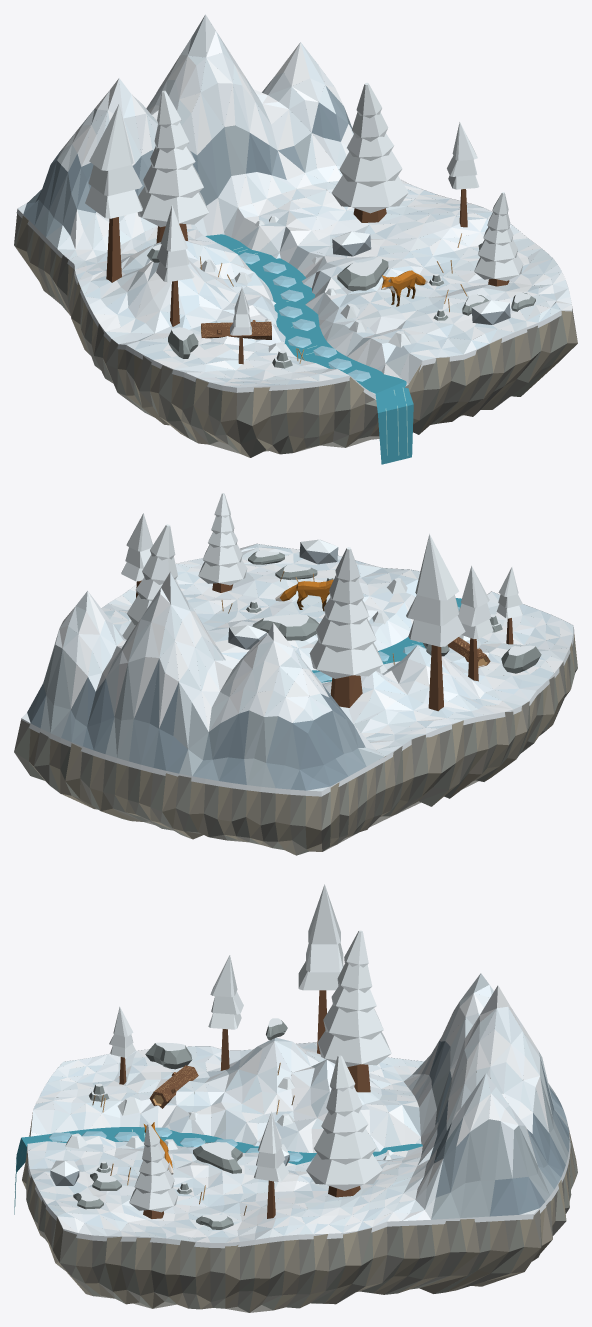
File: snow.glb
3 renders of one model, top to bottom at view 1: azimuth 30°, elevation 25°; view 2: azimuth 150°, elevation 25°; view 3: azimuth 270°, elevation 25°, orthographic.
Parts seen in each view (by area): view 1: 三角切面·地表.001, 浮岛·岩层剖面.001, 覆雪针叶树.003, 覆雪针叶树.001, 覆雪针叶树, 蜿蜒溪水.001, 覆雪针叶树.005, 悬崖小瀑布.001, 表层边缘.001, 覆雪针叶树.002, 覆雪针叶树.004, 散落岩石.032 (+6 smaller); view 2: 三角切面·地表.001, 浮岛·岩层剖面.001, 覆雪针叶树.001, 覆雪针叶树, 表层边缘.001, 覆雪针叶树.005, 覆雪针叶树.003, 覆雪针叶树.002, 覆雪针叶树.004, 散落岩石.032, 覆雪针叶树.006, 雪地赤狐 (+6 smaller); view 3: 三角切面·地表.001, 浮岛·岩层剖面.001, 覆雪针叶树.001, 覆雪针叶树.003, 覆雪针叶树, 表层边缘.001, 覆雪针叶树.005, 覆雪针叶树.002, 蜿蜒溪水.001, 覆雪针叶树.004, 散落岩石.032, 覆雪针叶树.006 (+3 smaller).
Part boxes in pixels (left/top/right/bottom): 三角切面·地表.001: left=18, top=14, right=571, bottom=394; 浮岛·岩层剖面.001: left=14, top=213, right=577, bottom=457; 覆雪针叶树.003: left=331, top=82, right=408, bottom=222; 覆雪针叶树.001: left=137, top=90, right=209, bottom=243; 覆雪针叶树: left=85, top=103, right=142, bottom=282; 蜿蜒溪水.001: left=205, top=234, right=405, bottom=393; 覆雪针叶树.005: left=474, top=192, right=523, bottom=286; 悬崖小瀑布.001: left=375, top=381, right=413, bottom=464; 表层边缘.001: left=16, top=182, right=572, bottom=399; 覆雪针叶树.002: left=156, top=205, right=194, bottom=326; 覆雪针叶树.004: left=447, top=122, right=479, bottom=227; 散落岩石.032: left=337, top=257, right=388, bottom=291; 三角切面·地表.001: left=22, top=544, right=573, bottom=791; 浮岛·岩层剖面.001: left=14, top=634, right=577, bottom=855; 覆雪针叶树.001: left=309, top=547, right=383, bottom=707; 覆雪针叶树: left=406, top=534, right=465, bottom=711; 表层边缘.001: left=21, top=543, right=574, bottom=796; 覆雪针叶树.005: left=198, top=493, right=247, bottom=592; 覆雪针叶树.003: left=122, top=524, right=180, bottom=639; 覆雪针叶树.002: left=457, top=566, right=493, bottom=681; 覆雪针叶树.004: left=121, top=513, right=152, bottom=597; 散落岩石.032: left=252, top=614, right=319, bottom=640; 覆雪针叶树.006: left=496, top=567, right=522, bottom=644; 雪地赤狐: left=275, top=579, right=333, bottom=611; 三角切面·地表.001: left=27, top=973, right=569, bottom=1242; 浮岛·岩层剖面.001: left=22, top=1046, right=577, bottom=1312; 覆雪针叶树.001: left=318, top=930, right=391, bottom=1092; 覆雪针叶树.003: left=306, top=1055, right=382, bottom=1197; 覆雪针叶树: left=298, top=884, right=343, bottom=1054; 表层边缘.001: left=27, top=1042, right=570, bottom=1248; 覆雪针叶树.005: left=129, top=1123, right=177, bottom=1218; 覆雪针叶树.002: left=208, top=955, right=243, bottom=1070; 蜿蜒溪水.001: left=21, top=1127, right=422, bottom=1164; 覆雪针叶树.004: left=254, top=1111, right=288, bottom=1218; 散落岩石.032: left=193, top=1142, right=242, bottom=1173; 覆雪针叶树.006: left=109, top=1006, right=135, bottom=1084.
Bounding box in the file's own units: 14.11 × 8.85 × 16.54.
